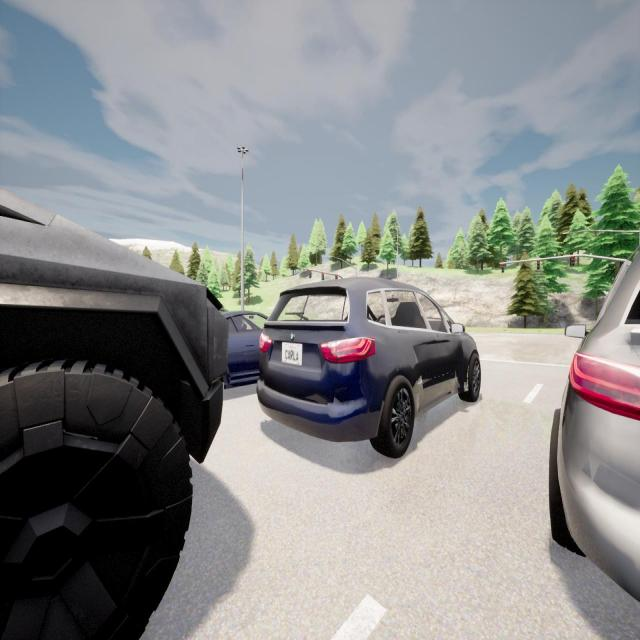Vehicle: (0, 189, 228, 638), (257, 276, 481, 456), (546, 229, 640, 603), (225, 312, 267, 386)
traffic_light: (570, 256, 575, 267), (537, 260, 540, 270), (309, 270, 312, 279), (502, 264, 504, 273), (322, 272, 324, 280), (335, 274, 337, 280)
